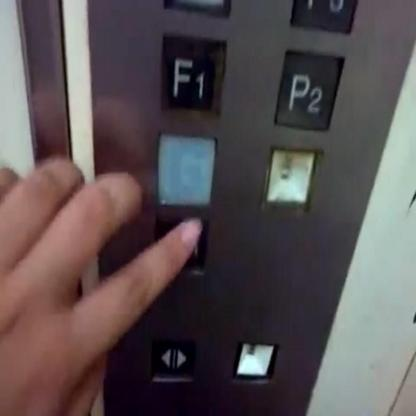F1: (159, 30, 228, 119)
P2: (274, 47, 346, 133)
blur: (156, 130, 218, 208), (261, 143, 319, 216), (230, 337, 279, 385)
open: (147, 333, 198, 383)
